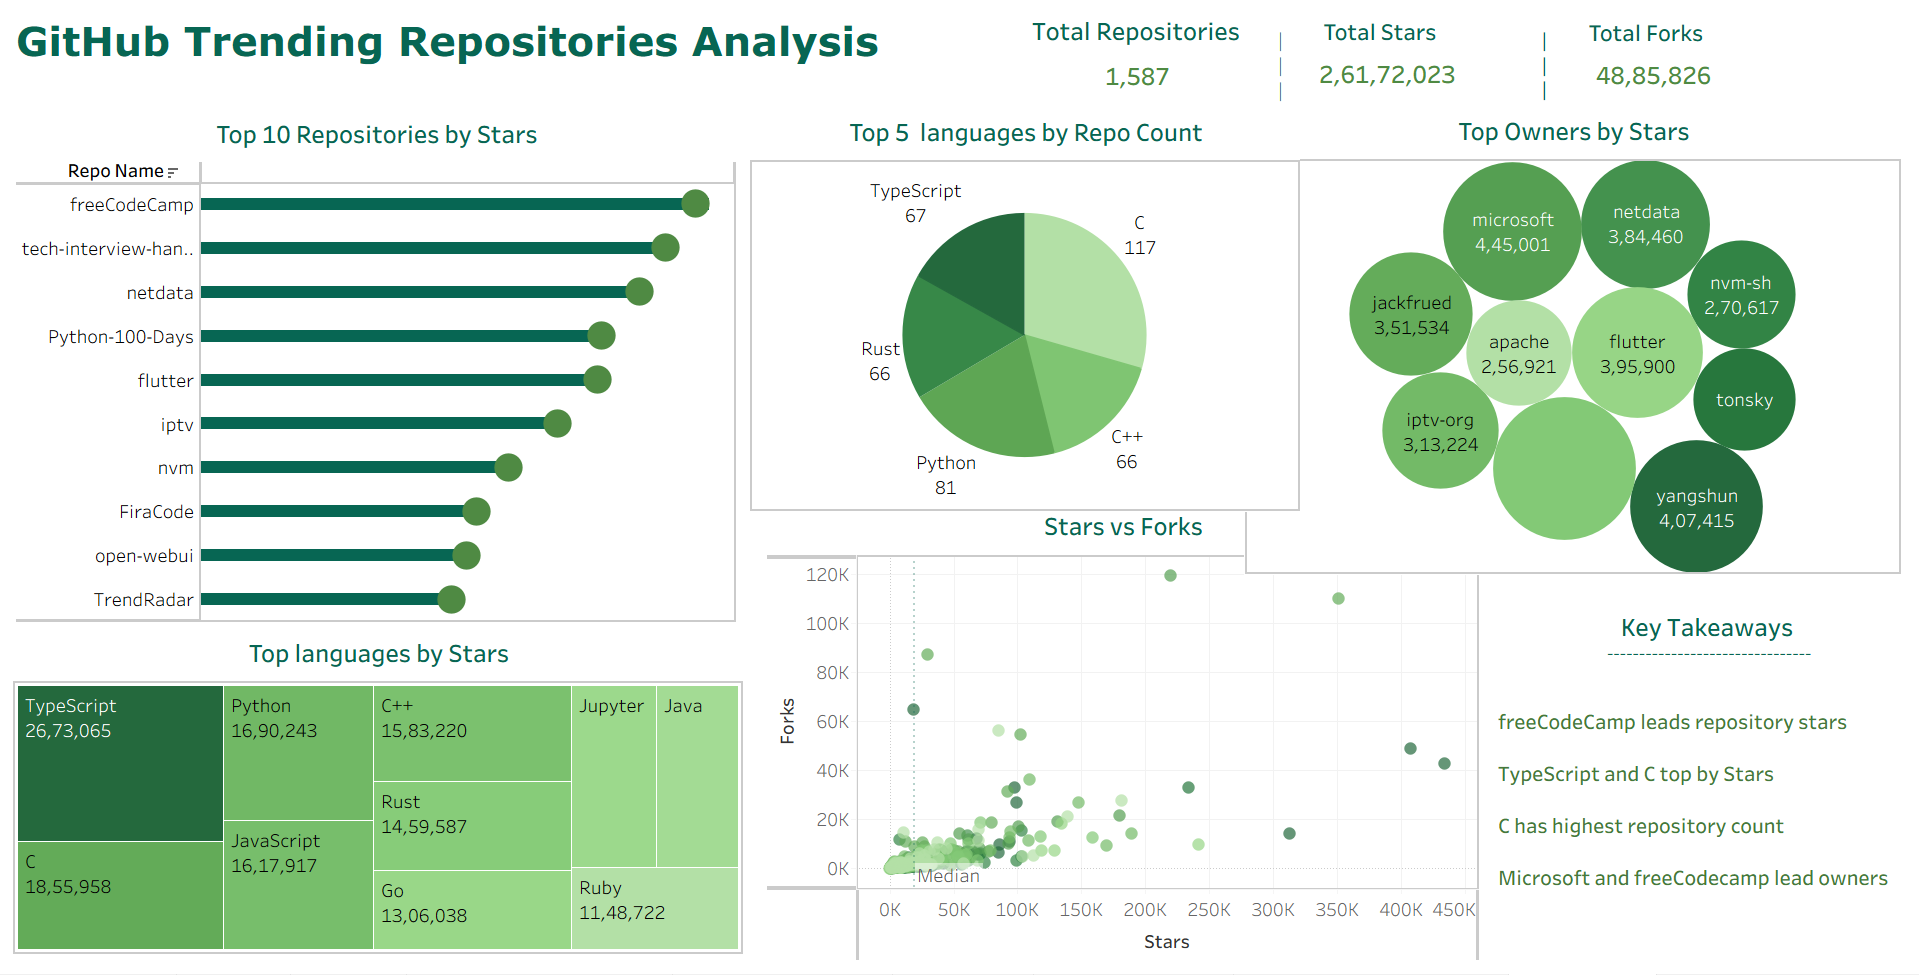

This screenshot's page, from the dashboard's own definition file:
{"tool":"tableau","page":{"name":"Dashboard 1","canvas":[1000,1000],"units":"permille","ordinal":0},"visuals":[{"type":"text","box":[662.9,6.7,60.1,120.6]},{"type":"text","box":[800.5,8,60.1,119.3]},{"type":"text","box":[4.8,10.7,990.4,88.5]},{"type":"text","box":[535.5,10.7,129.8,44.2]},{"type":"worksheet","title":"Total Stars","mark":"Automatic","box":[677.3,13.4,128,100.5]},{"type":"worksheet","title":"Total Forks","mark":"Automatic","box":[820.9,14.8,136.4,100.5]},{"type":"text","box":[573.3,55,60.1,45.6]},{"type":"worksheet","title":"Top Owners By Stars","mark":"Circle","box":[647.8,113.9,342.6,477.2]},{"type":"worksheet","title":"Top languages by Repo Count","mark":"Pie","box":[390,115.3,287.3,411.5]},{"type":"worksheet","title":"Top 10 repositories by stars ","mark":"Circle","rows":["repo_name"],"cols":["stars","stars"],"box":[7.8,116.6,376.2,522.8]},{"type":"worksheet","title":"Stars vs Forks","mark":"Circle","rows":["forks"],"cols":["stars"],"box":[398.4,518.8,372.6,469.2]},{"type":"text","box":[805.3,622,167.7,44.2]},{"type":"worksheet","title":"Top languages by Stars","mark":"Automatic","box":[6,648.8,381,332.4]}]}

Visuals, with their boxes on the dashboard's canvas, which has no fixed pixel size, in thousandths of its width and height (x1, y1, x2, y2). These are canvas units, not pixel positions in the 1919x975 screenshot, which may show the page scaled, cropped or inside an application window:
text: x1=663 y1=7 x2=723 y2=127
text: x1=800 y1=8 x2=861 y2=127
text: x1=5 y1=11 x2=995 y2=99
text: x1=536 y1=11 x2=665 y2=55
"Total Stars" worksheet: x1=677 y1=13 x2=805 y2=114
"Total Forks" worksheet: x1=821 y1=15 x2=957 y2=115
text: x1=573 y1=55 x2=633 y2=101
"Top Owners By Stars" worksheet (Circle marks): x1=648 y1=114 x2=990 y2=591
"Top languages by Repo Count" worksheet (Pie marks): x1=390 y1=115 x2=677 y2=527
"Top 10 repositories by stars " worksheet (Circle marks): x1=8 y1=117 x2=384 y2=639
"Stars vs Forks" worksheet (Circle marks): x1=398 y1=519 x2=771 y2=988
text: x1=805 y1=622 x2=973 y2=666
"Top languages by Stars" worksheet: x1=6 y1=649 x2=387 y2=981
